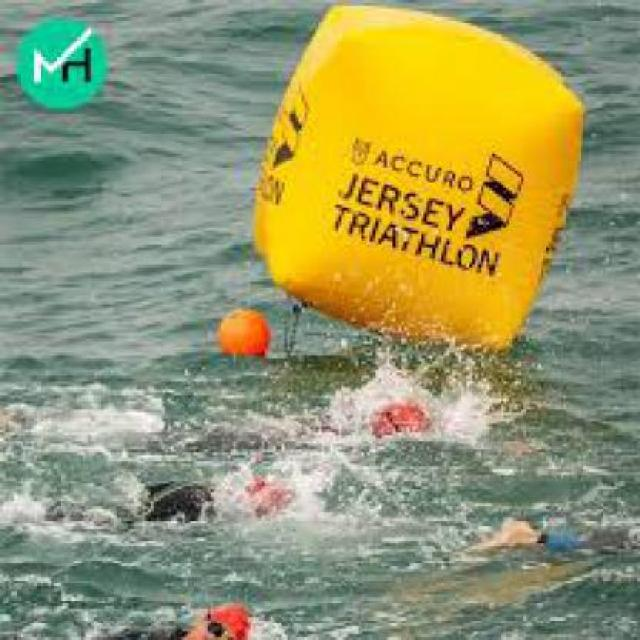buoy: (245, 2, 596, 368), (371, 510, 639, 638), (129, 465, 320, 549), (354, 390, 462, 450), (211, 303, 280, 383), (160, 596, 269, 639)
